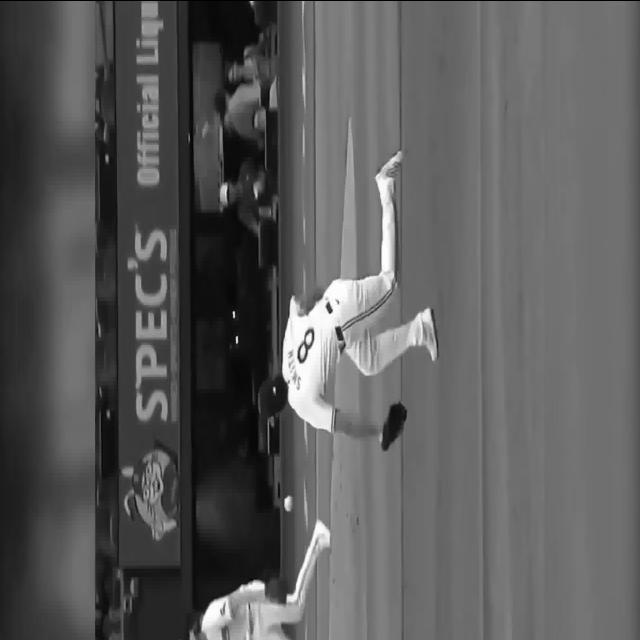baseball: (284, 493, 294, 511)
baseball_glove: (381, 402, 406, 451)
shoe: (375, 149, 402, 187), (421, 307, 439, 360), (312, 518, 330, 551)
